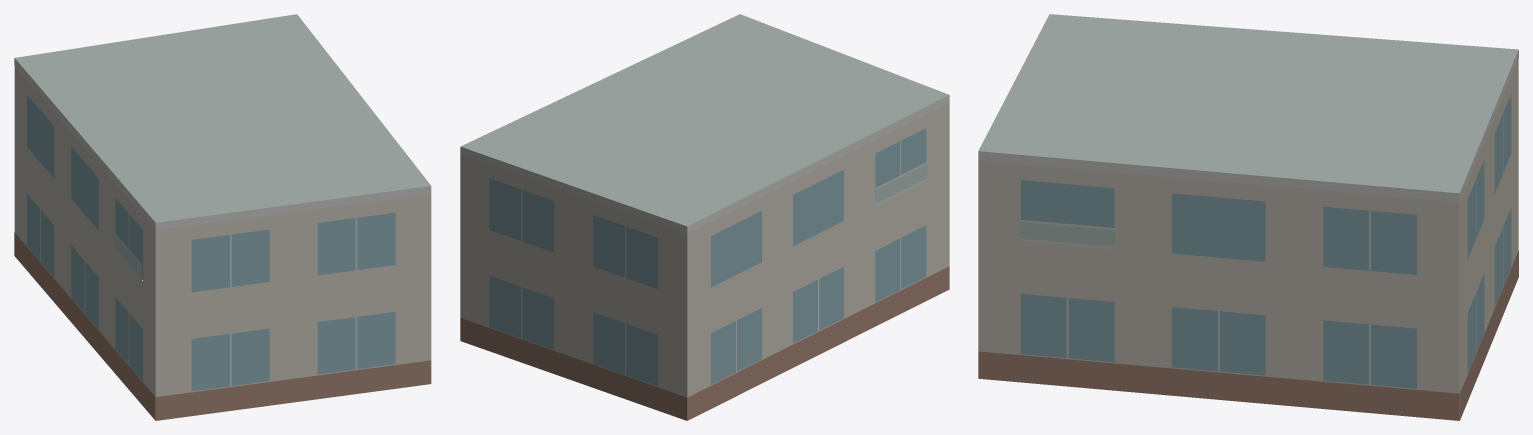
Rendered from survey-upis-32475675.glb.
The picture shows the model from 3 angles, left to right: view 1: azimuth 30°, elevation 25°; view 2: azimuth 150°, elevation 25°; view 3: azimuth 270°, elevation 25°; orthographic projection. The views are drawn at different scales.
Visible parts, largest first — view 1: survey-upis-32475675.tmp; view 2: survey-upis-32475675.tmp; view 3: survey-upis-32475675.tmp.
Boxes of the visible parts, left/top/right/bottom form: survey-upis-32475675.tmp: left=14, top=14, right=431, bottom=420; survey-upis-32475675.tmp: left=460, top=14, right=949, bottom=420; survey-upis-32475675.tmp: left=978, top=14, right=1518, bottom=420.
Size of the model in its own units: 10.32 by 6.1 by 13.15.
